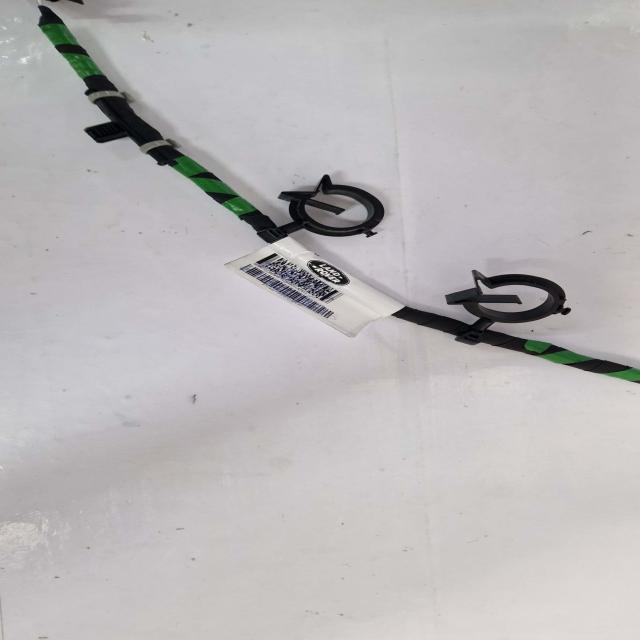AJ20_D6_Cable: (44, 12, 640, 385)
Clip: (451, 275, 577, 349), (259, 180, 390, 248)
Info: (232, 242, 409, 341)
